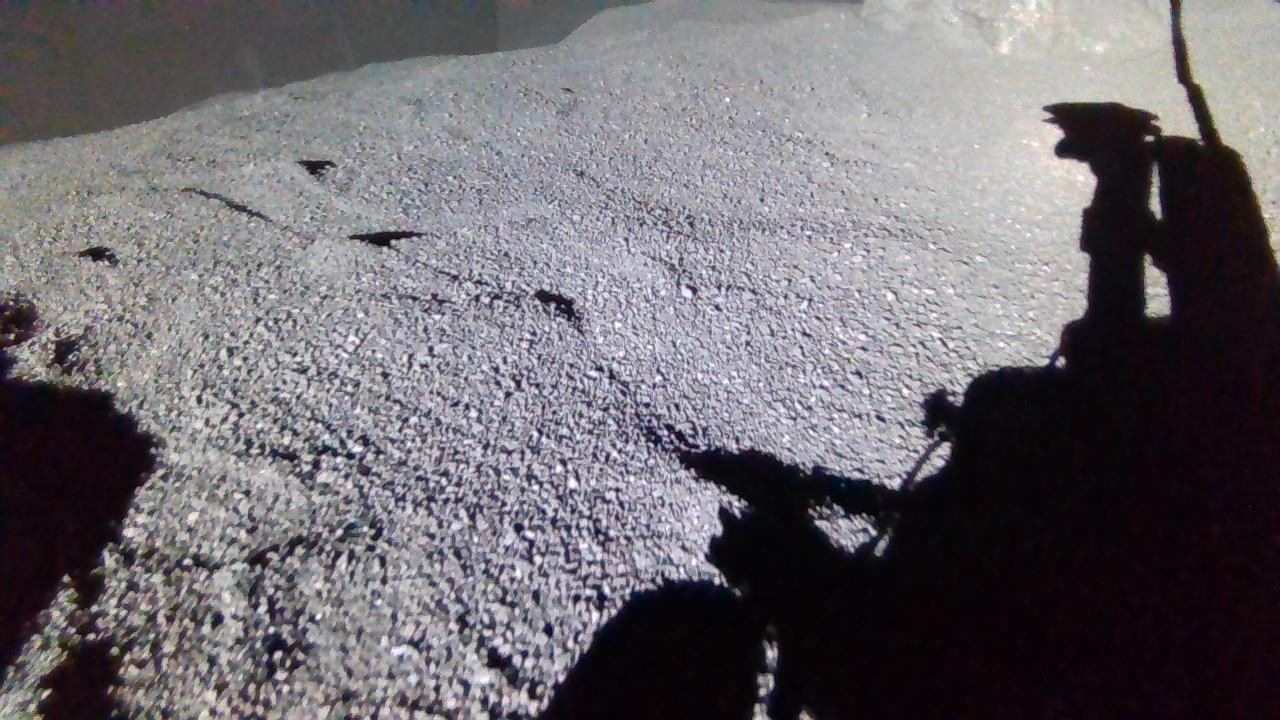rock: (868, 0, 1180, 60)
